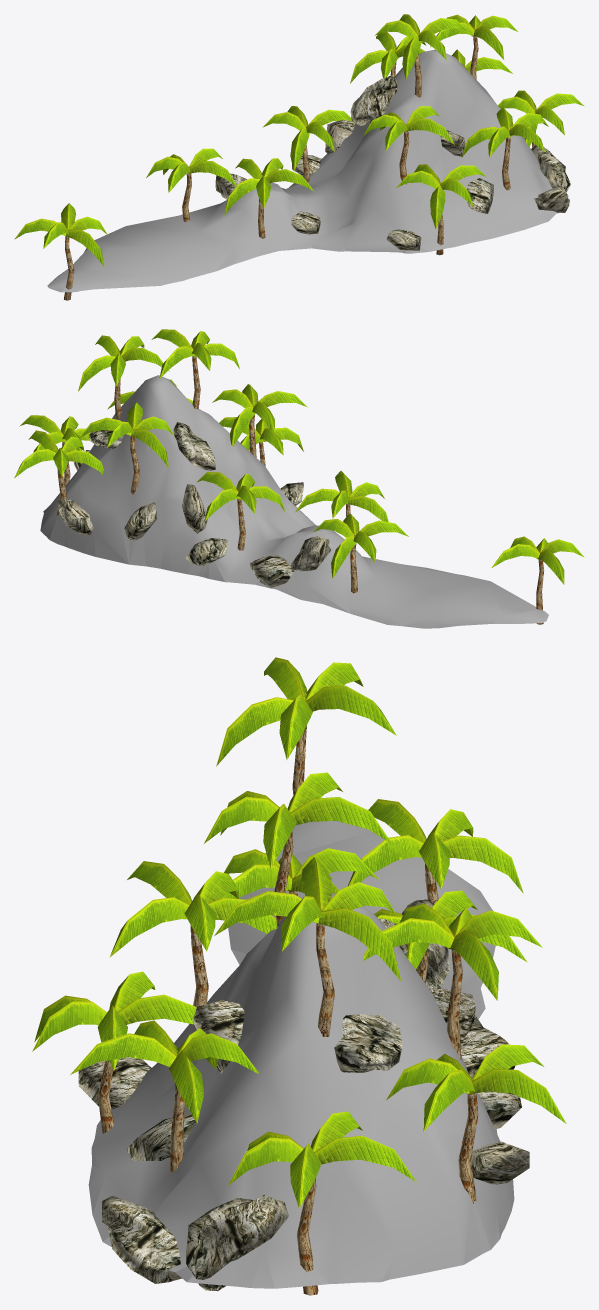
The model's file is island_05.fbx.
The picture shows the model from 3 angles, top to bottom: view 1: azimuth 30°, elevation 25°; view 2: azimuth 150°, elevation 25°; view 3: azimuth 270°, elevation 25°; orthographic projection. The views are drawn at different scales.
Visible parts, largest first — view 1: island_05; view 2: island_05; view 3: island_05.
Boxes of the visible parts, x1,y1,x2,y2 form: island_05: (14,14,584,300); island_05: (14,329,584,628); island_05: (32,657,566,1295).
Bounding box in the file's own units: 49.49 × 16.72 × 20.66.
